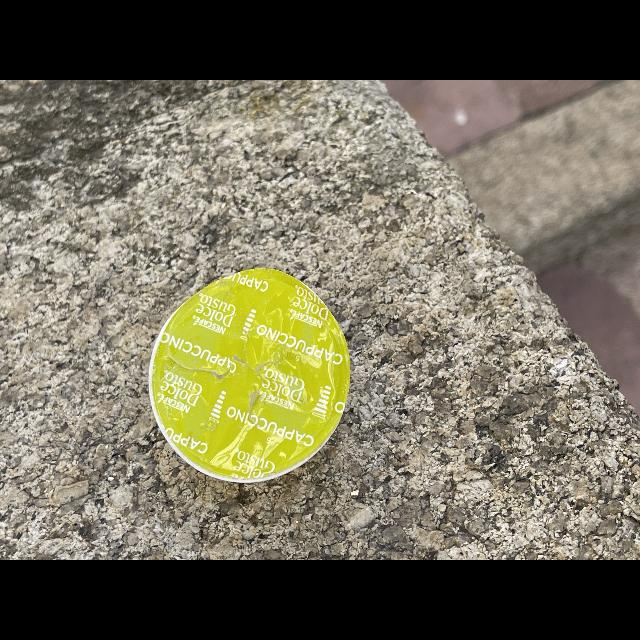damaged_capsule: (133, 255, 374, 492)
